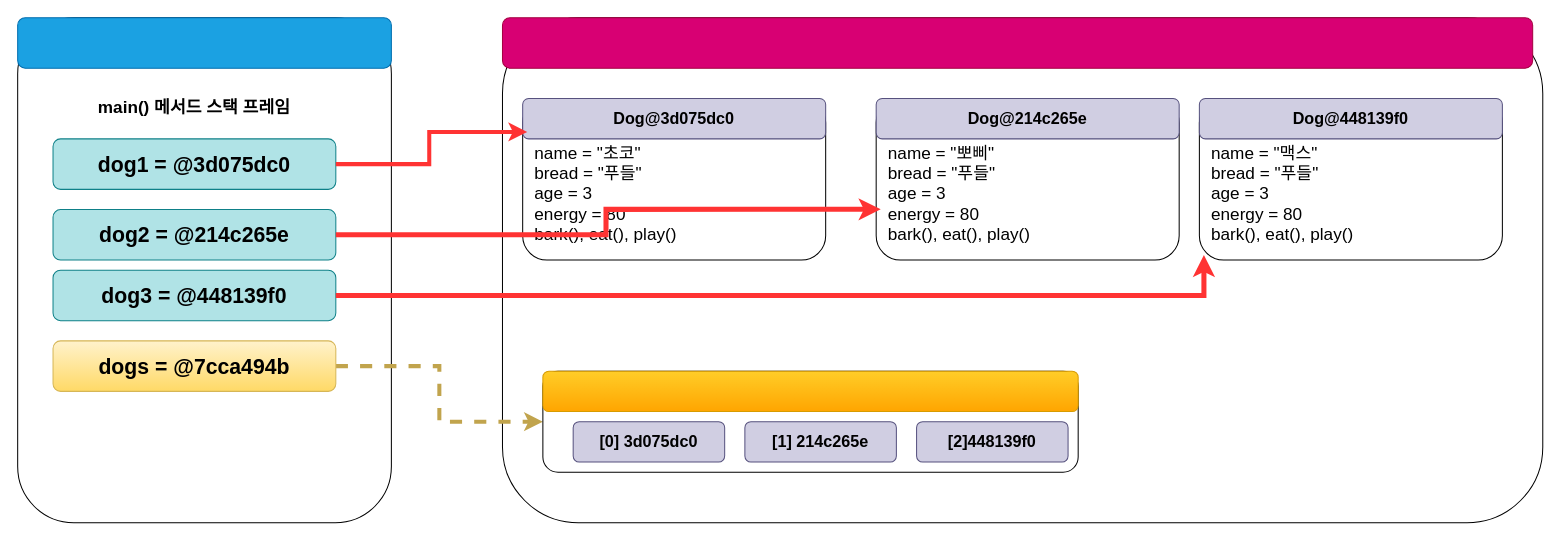
Some shapes in this 1560 by 540 pixel diagram are drawn without their labels. Each missing label, with the centre of its shape:
Dog @7cca494b: point (810, 391)
Heap Memory (힙): point (1017, 42)
Stack Memory (스택): point (204, 42)
